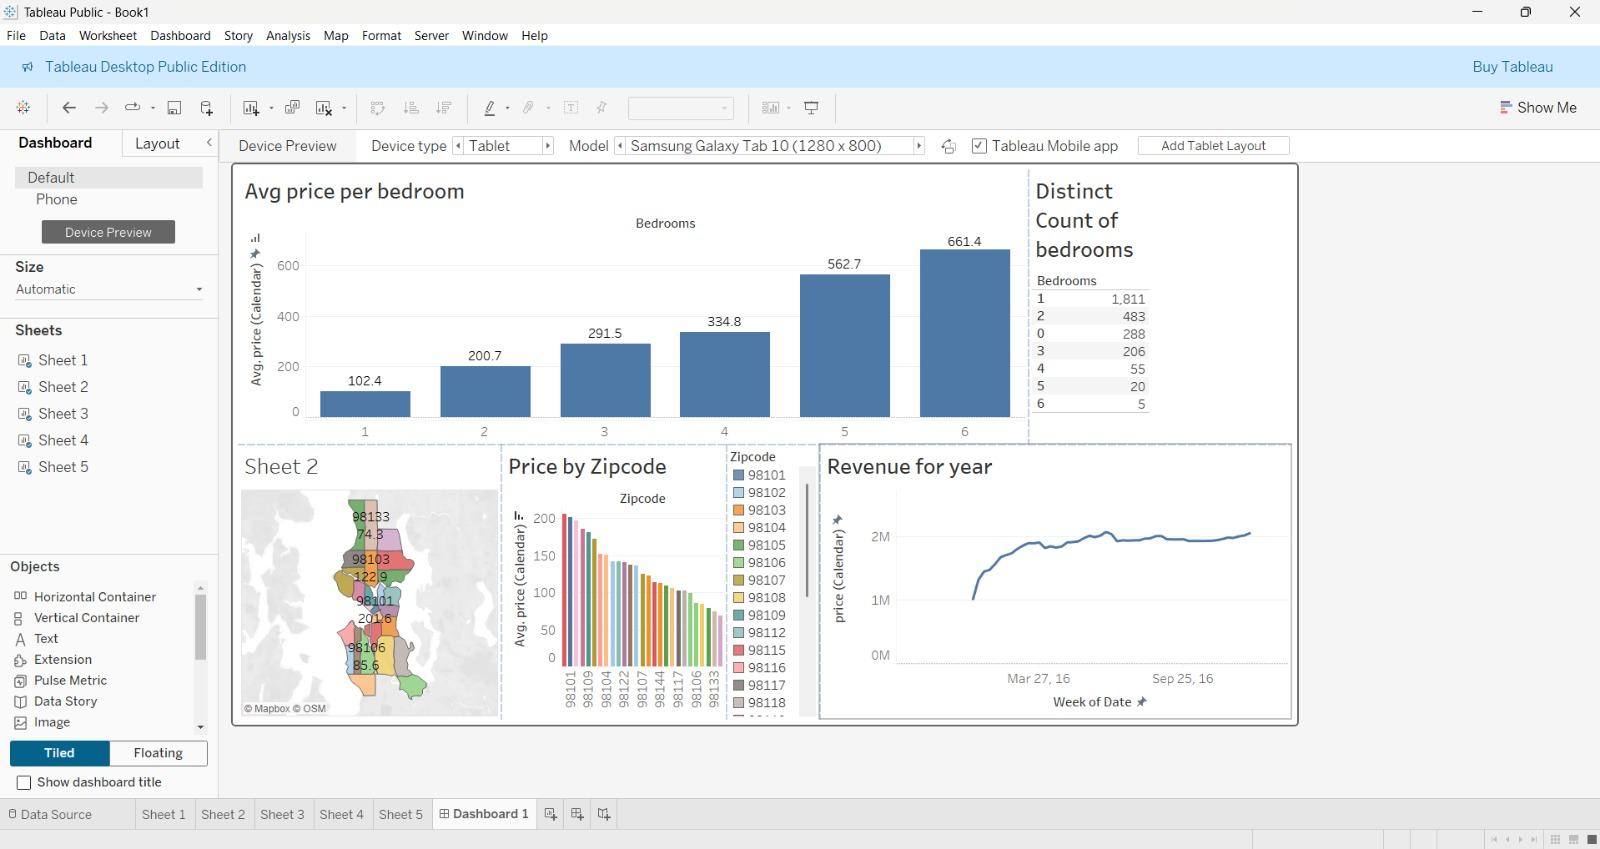

Layout of this report page (visuals, bound fields, positions):
{"tool":"tableau","page":{"name":"Dashboard 1","canvas":[1000,1000],"units":"permille","ordinal":0},"visuals":[{"type":"worksheet","title":"Sheet 4","mark":"Automatic","rows":["price (Calendar)"],"cols":["bedrooms"],"box":[6.2,11.8,740.6,488.2]},{"type":"worksheet","title":"Sheet 5","mark":"Automatic","rows":["bedrooms"],"box":[746.9,11.8,246.9,488.2]},{"type":"worksheet","title":"Sheet 2","mark":"Multipolygon","box":[6.2,500,246.8,488.2]},{"type":"worksheet","title":"Sheet 1","mark":"Automatic","rows":["price (Calendar)"],"cols":["zipcode"],"box":[253.1,500,210.6,488.2]},{"type":"legend","title":"Sheet 2","param":"[federated.0309e5e1y5zhzz154p2xk0cvkbth].[none:zipcode:ok]","box":[463.7,500,88.2,488.2]},{"type":"worksheet","title":"Sheet 3","mark":"Automatic","rows":["price (Calendar)"],"cols":["date"],"box":[551.9,500,441.9,488.2]}]}

Visuals, with their boxes on the dashboard's canvas, which has no fixed pixel size, in thousandths of its width and height (x1, y1, x2, y2). These are canvas units, not pixel positions in the 1600x849 screenshot, which may show the page scaled, cropped or inside an application window:
"Sheet 4" worksheet: 6, 12, 747, 500
"Sheet 5" worksheet: 747, 12, 994, 500
"Sheet 2" worksheet (Multipolygon marks): 6, 500, 253, 988
"Sheet 1" worksheet: 253, 500, 464, 988
"Sheet 2" legend: 464, 500, 552, 988
"Sheet 3" worksheet: 552, 500, 994, 988
